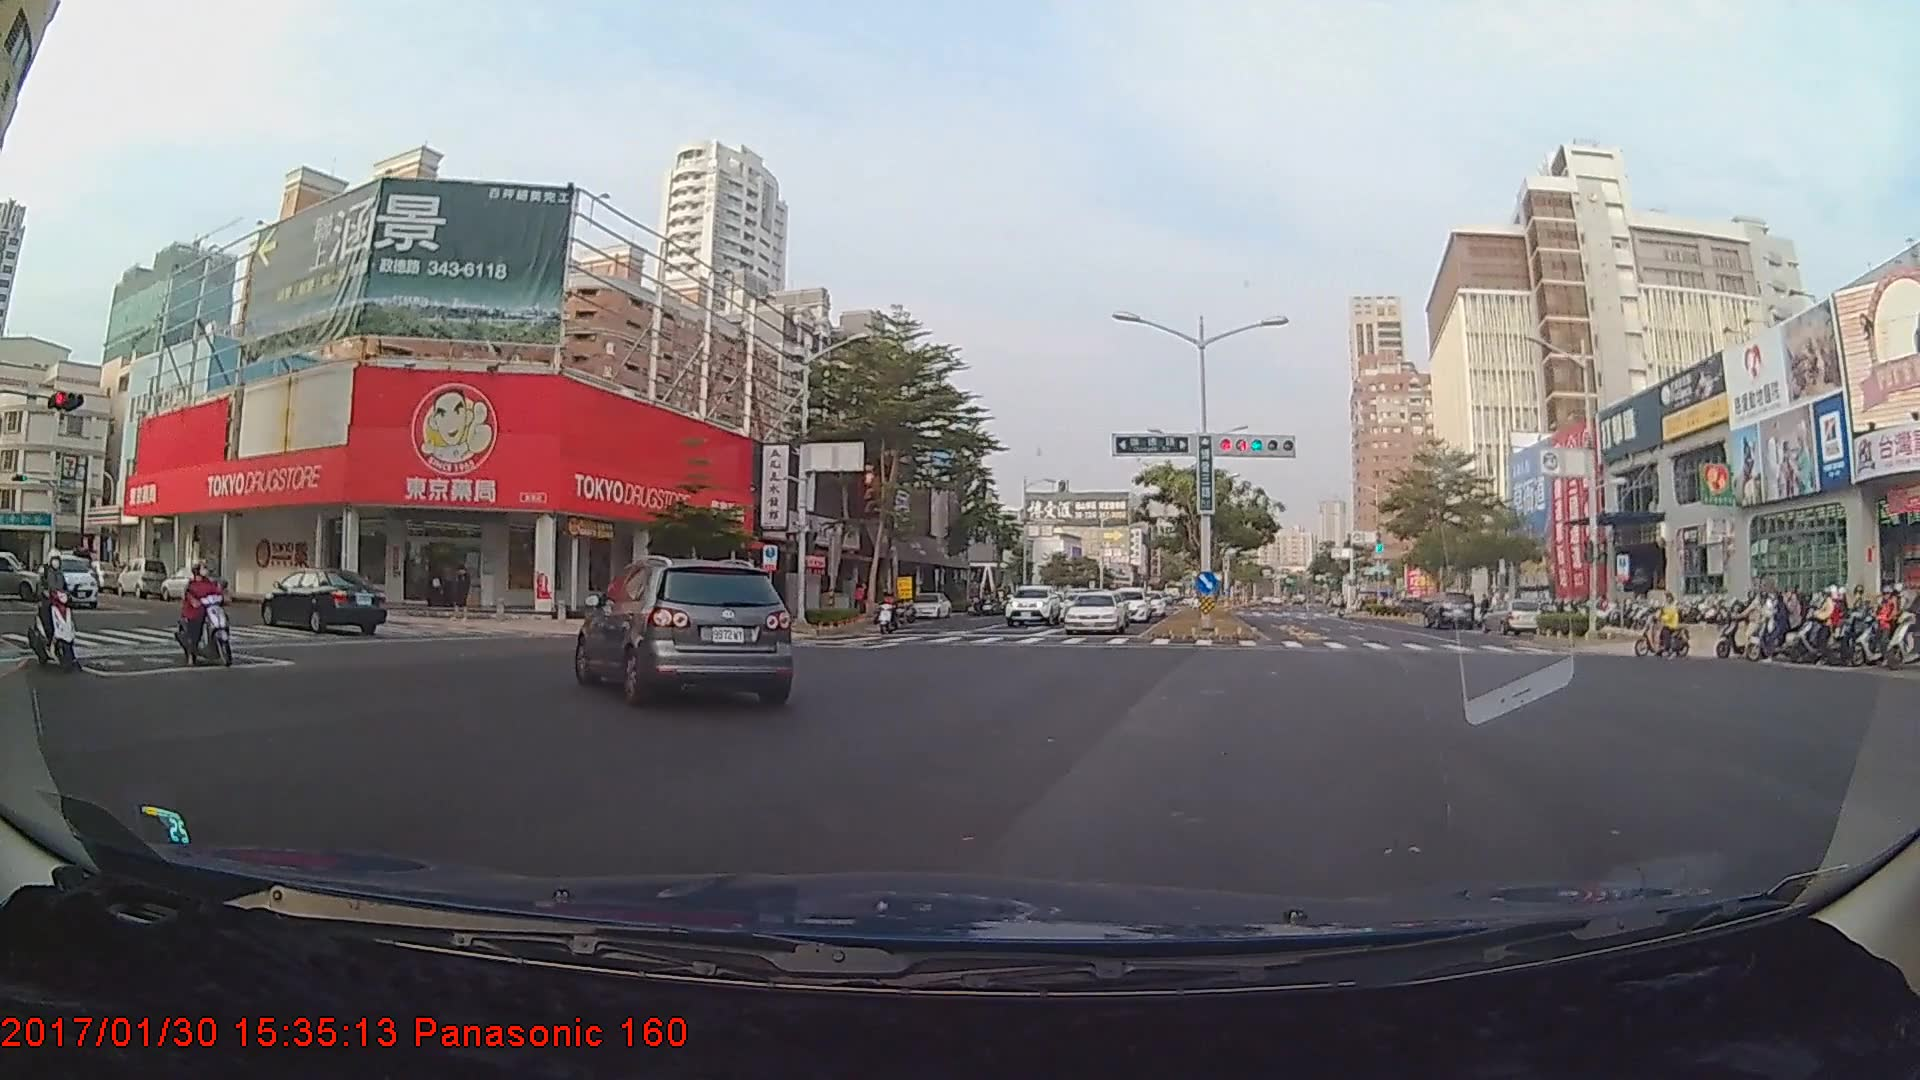rider: (168, 560, 233, 673), (22, 555, 83, 673), (1776, 586, 1846, 663), (1830, 588, 1898, 664), (1714, 599, 1791, 661), (1630, 585, 1690, 658), (1879, 584, 1920, 659), (873, 585, 896, 637)
vehicle: (576, 556, 791, 707), (265, 566, 385, 636), (37, 554, 98, 608), (1062, 589, 1126, 633), (1003, 582, 1060, 626), (1421, 590, 1475, 627), (1103, 584, 1150, 621), (907, 590, 950, 618)
